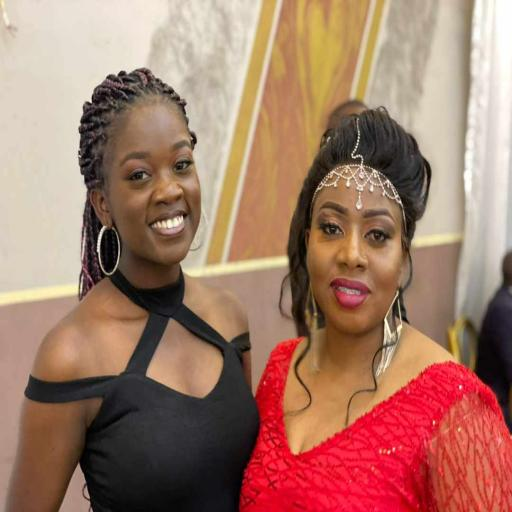LAURENE: (69, 72, 217, 292)
